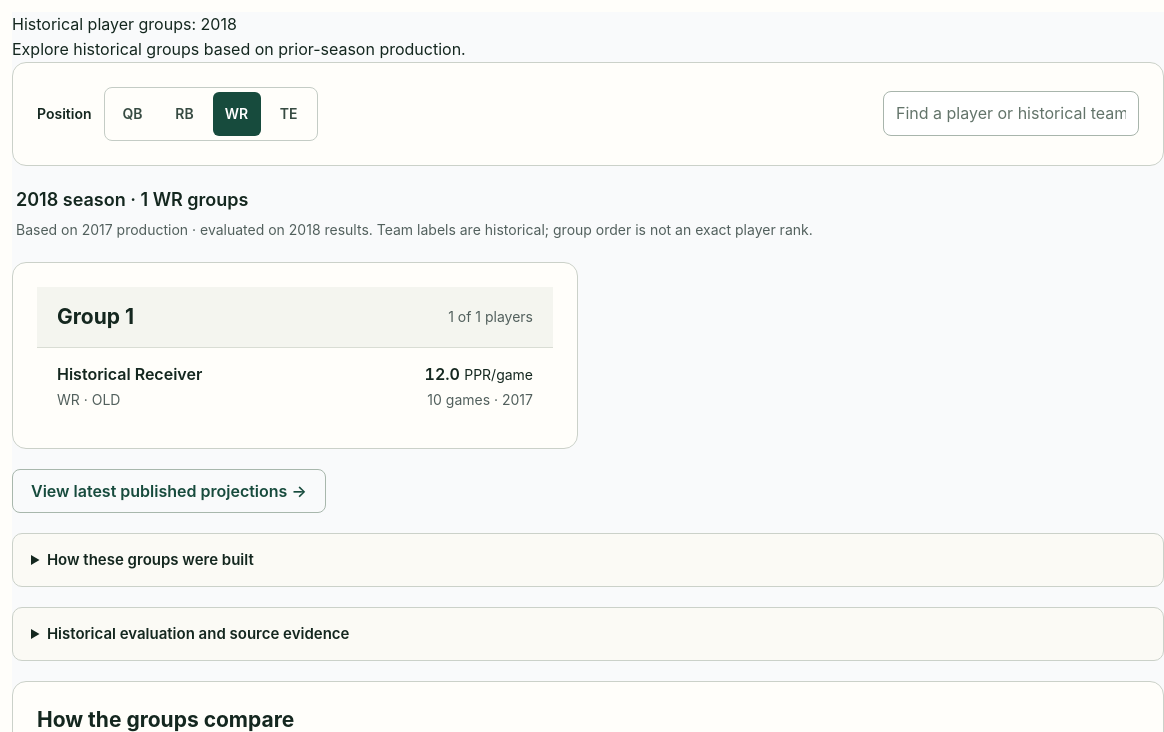
Test case: historical tier presentation › respects an explicit supported position before saved view preferences
expect the heading "2018 season · 1 WR groups" is shown: met, box [16,189,248,210]
Click the button "TE" at (288, 114), box [264,92,312,136]
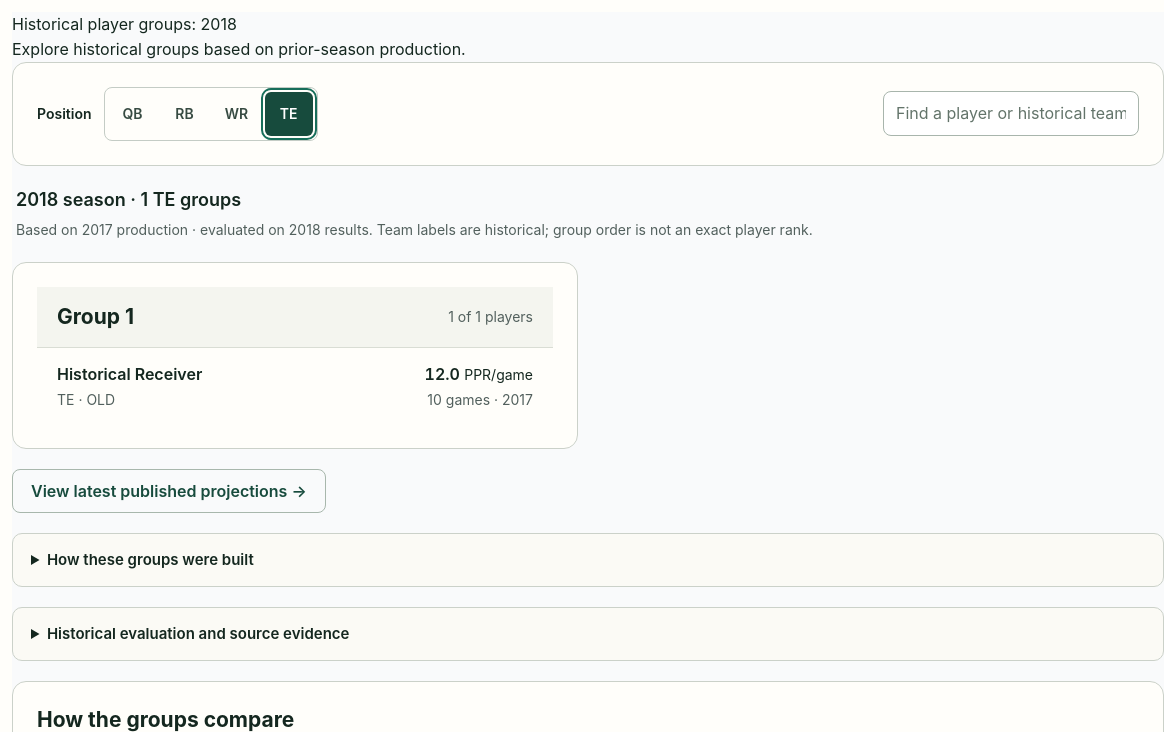
expect the heading "2018 season · 1 TE groups" is shown: met, box [16,189,241,210]
